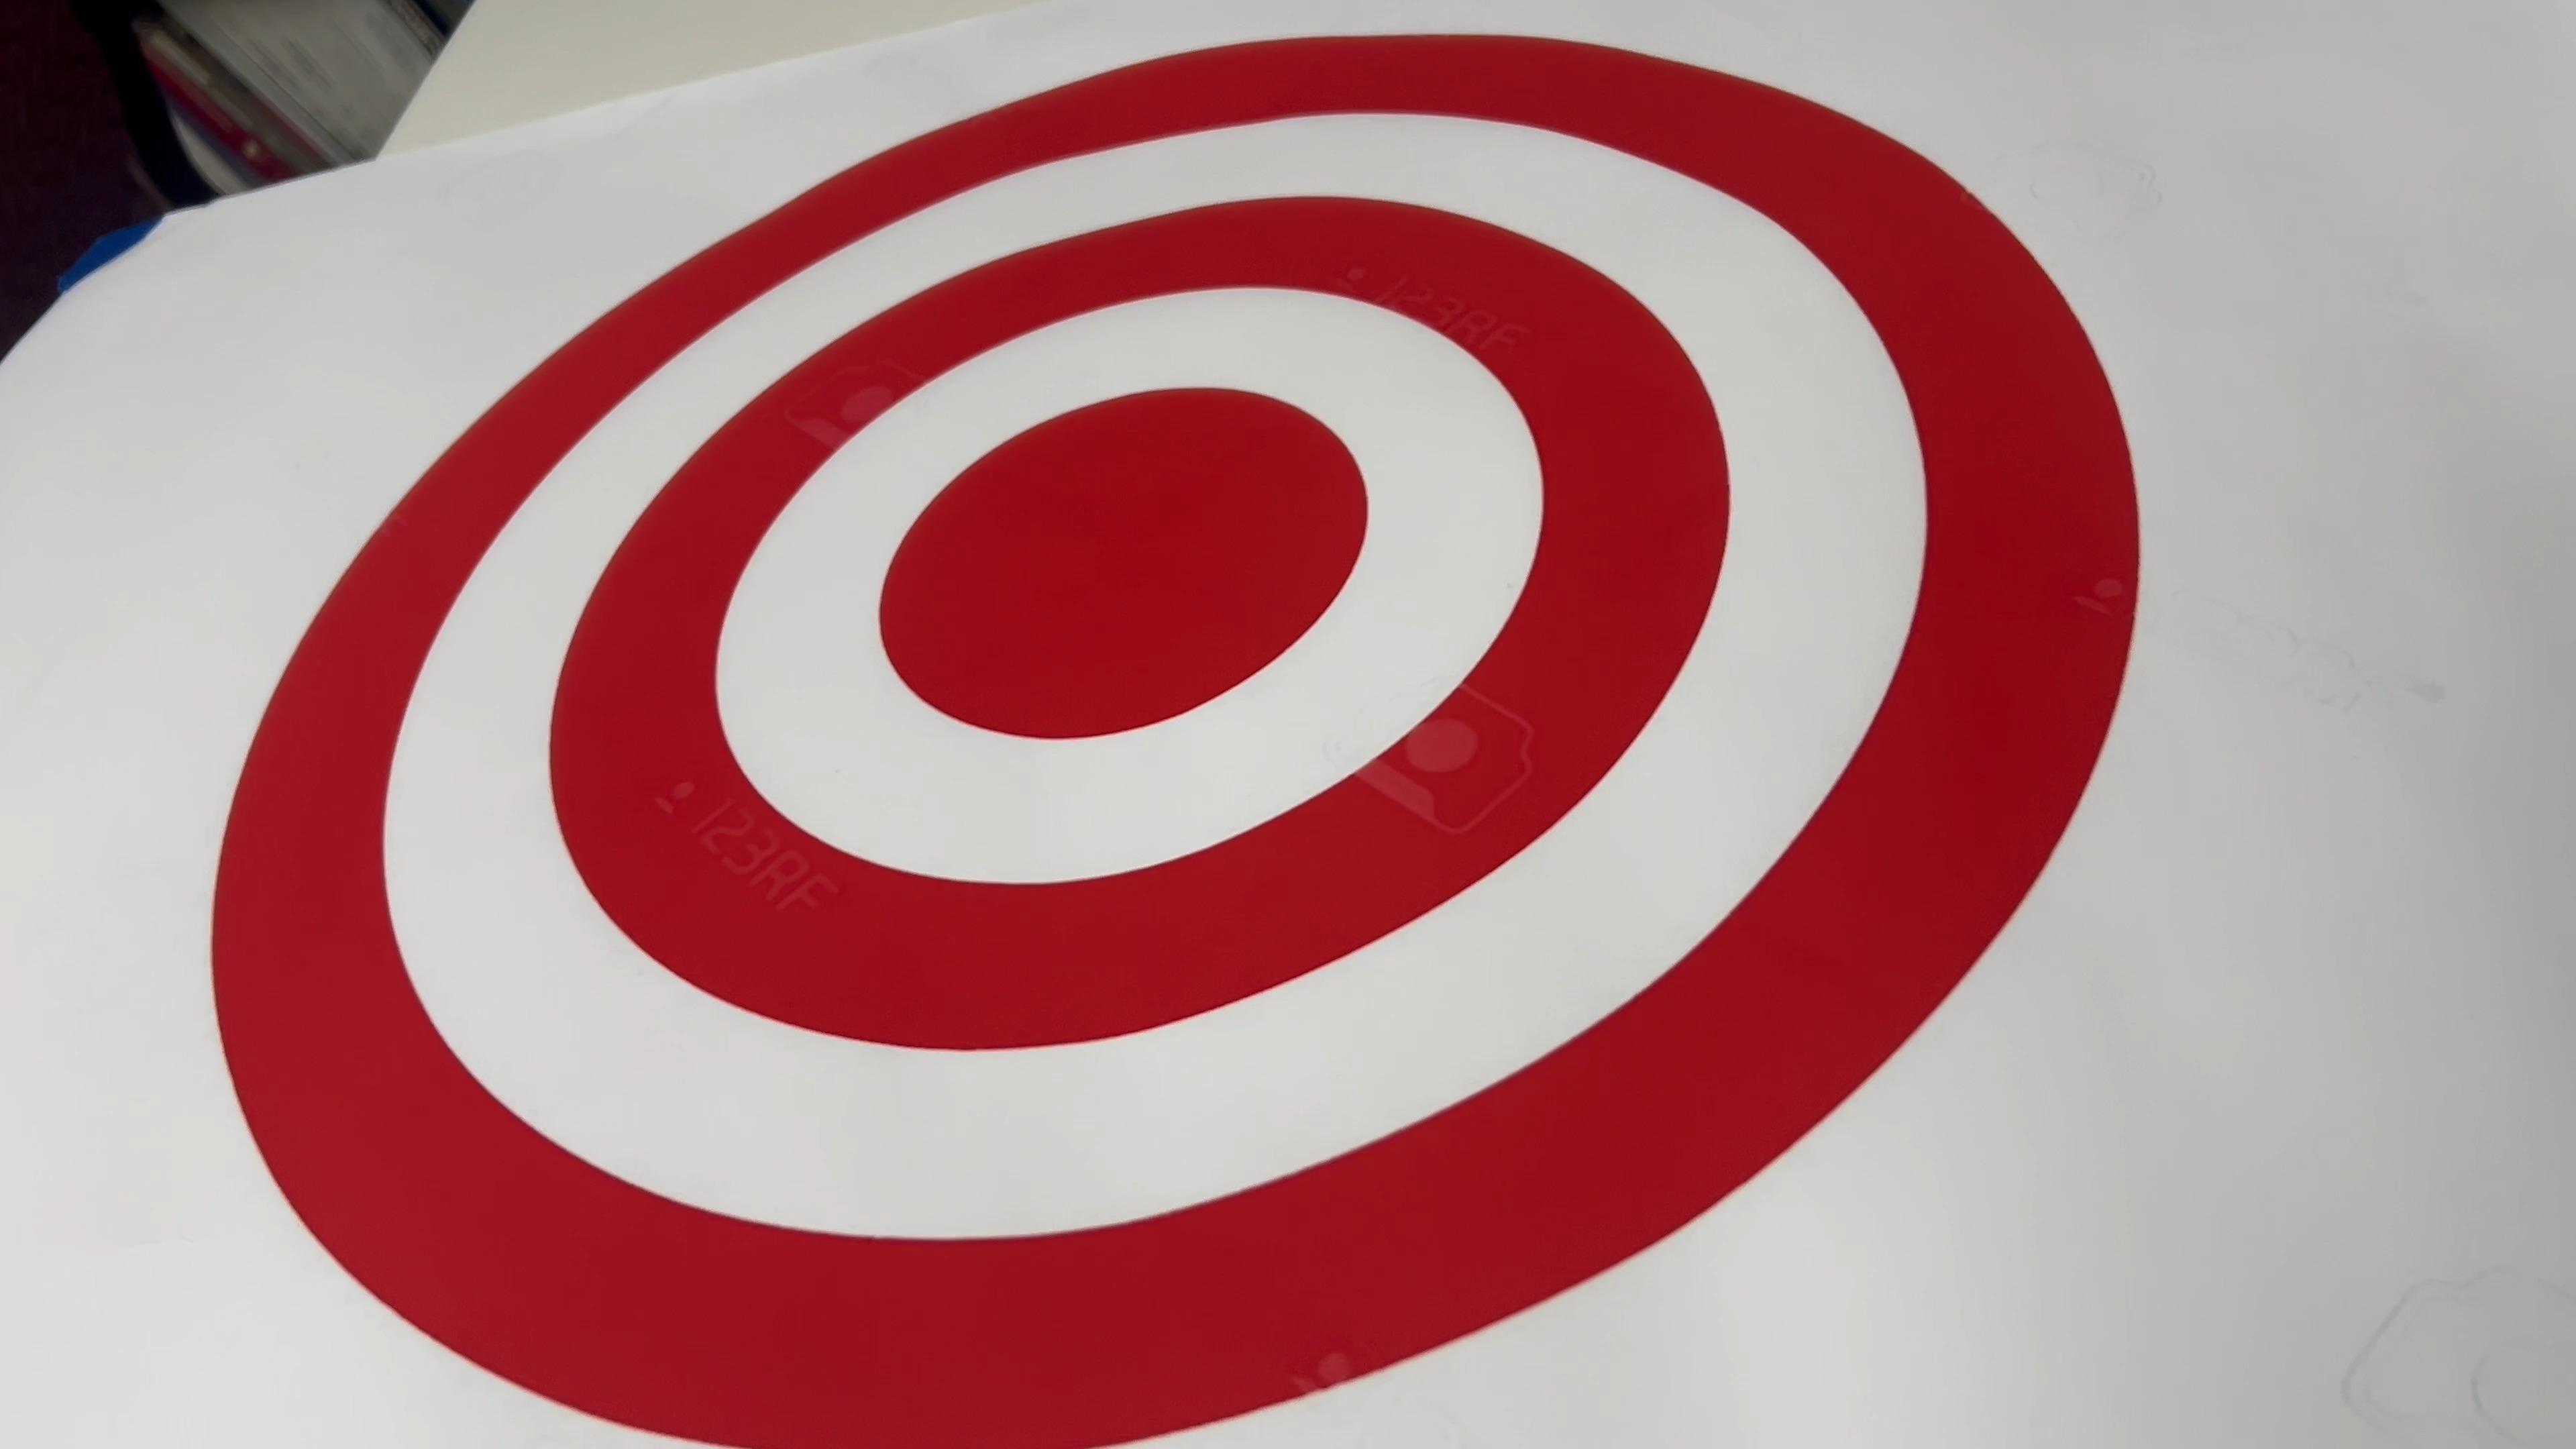target_red: (166, 7, 2364, 1449)
